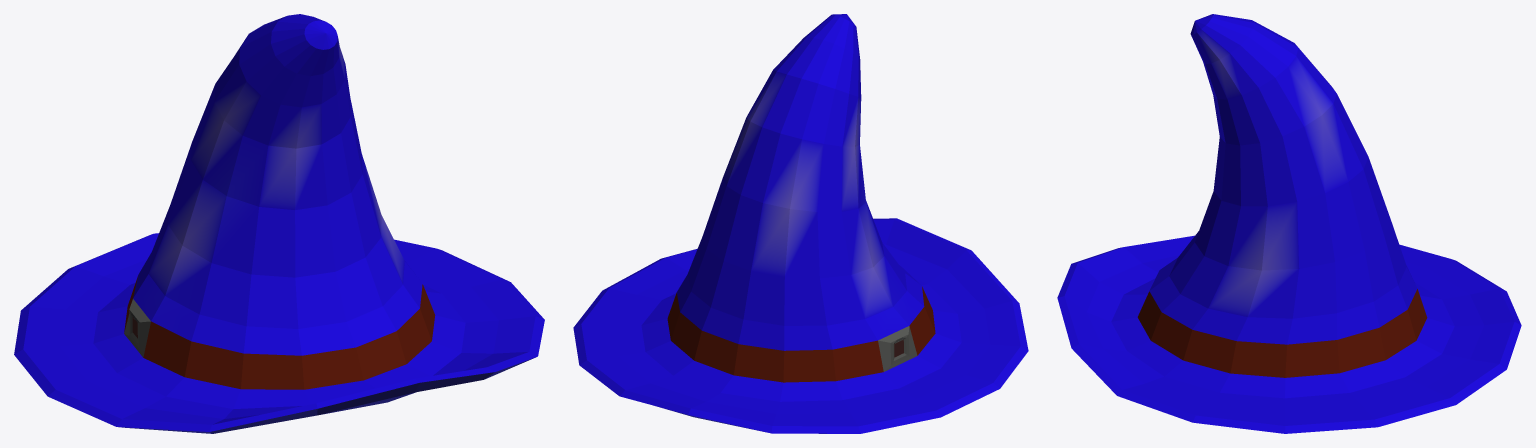
File: ChapeuMago.fbx
The picture shows the model from 3 angles, left to right: view 1: azimuth 30°, elevation 25°; view 2: azimuth 150°, elevation 25°; view 3: azimuth 270°, elevation 25°; orthographic projection. The views are drawn at different scales.
Visible parts, largest first — view 1: ChapeuMagoObject; view 2: ChapeuMagoObject; view 3: ChapeuMagoObject.
Part boxes in pixels (left/top/right/bottom): ChapeuMagoObject: left=14, top=14, right=544, bottom=433; ChapeuMagoObject: left=573, top=14, right=1028, bottom=433; ChapeuMagoObject: left=1057, top=14, right=1521, bottom=433.
Bounding box in the file's own units: 47.77 × 35.04 × 45.9.
